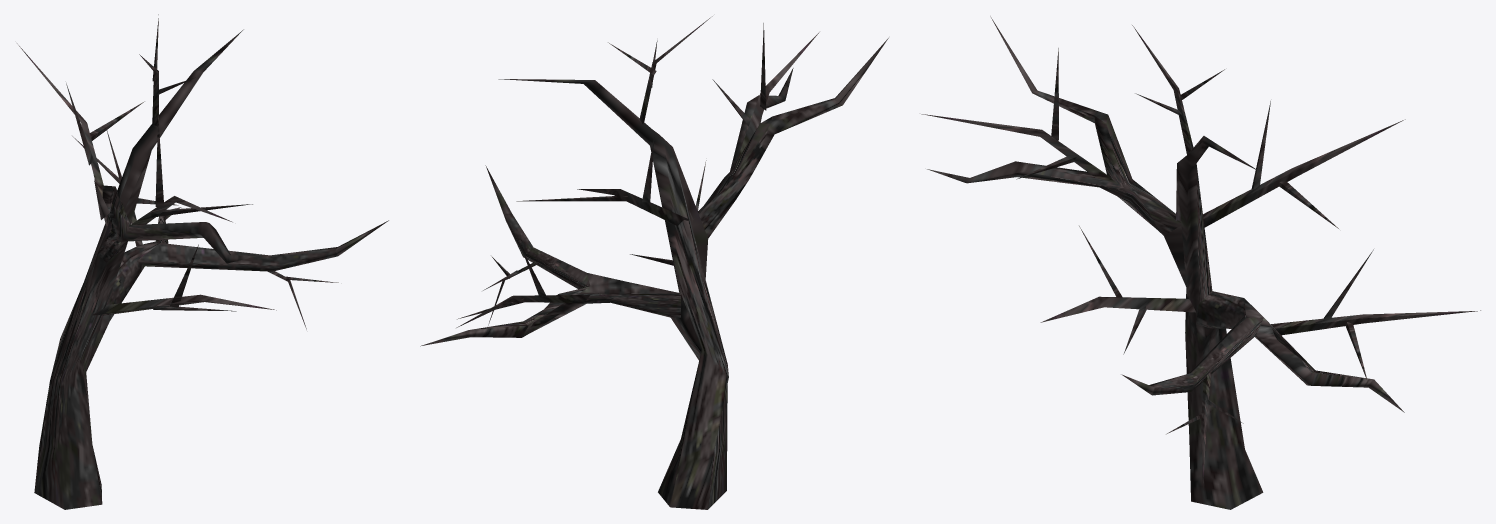
3 renders of one model, left to right at view 1: azimuth 30°, elevation 25°; view 2: azimuth 150°, elevation 25°; view 3: azimuth 270°, elevation 25°, orthographic. The views are drawn at different scales.
Parts seen in each view (by area): view 1: Tree04; view 2: Tree04; view 3: Tree04.
Part boxes in pixels (x1,y1,x2,y2): Tree04: (17, 14, 388, 509); Tree04: (420, 16, 888, 509); Tree04: (921, 16, 1480, 509).
Bounding box in the file's own units: 401 × 500 × 530.
